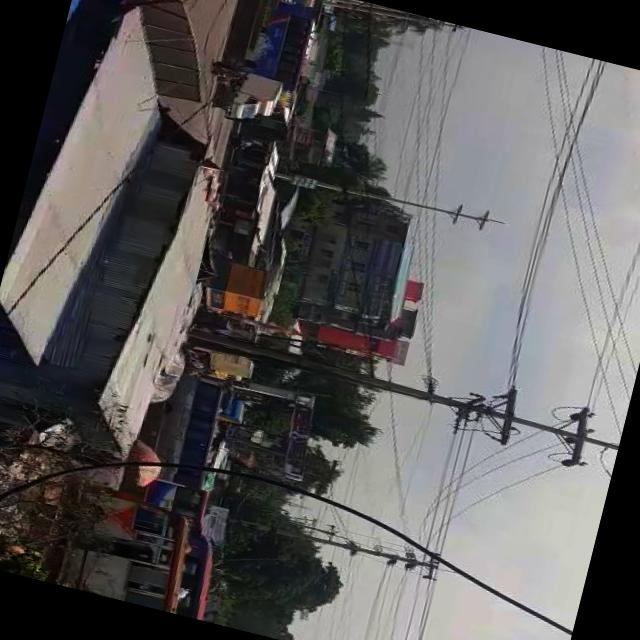bus: (68, 485, 190, 609), (137, 368, 225, 489), (237, 2, 319, 82), (278, 0, 318, 9)
truck: (215, 66, 288, 126)
